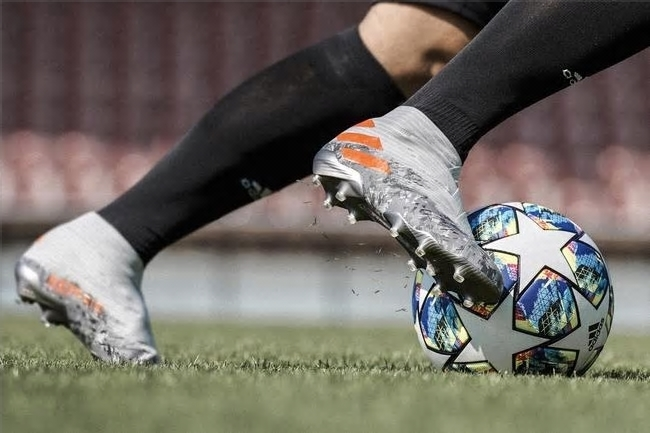football boots: (311, 103, 504, 308), (18, 209, 166, 367)
